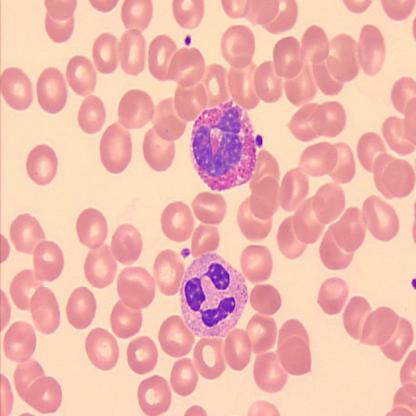Eosinophil: (188, 101, 263, 193)
